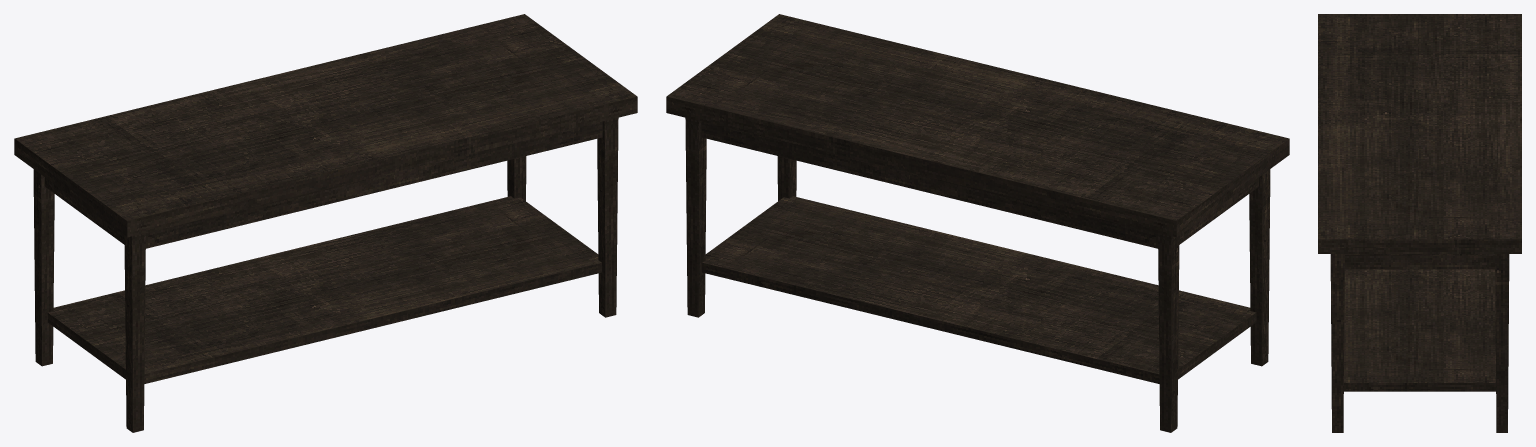
The model's file is coffee_table_1_2.glb.
3 renders of one model, left to right at view 1: azimuth 30°, elevation 25°; view 2: azimuth 150°, elevation 25°; view 3: azimuth 270°, elevation 25°, orthographic. The views are drawn at different scales.
Parts seen in each view (by area): view 1: coffee_table_1_2; view 2: coffee_table_1_2; view 3: coffee_table_1_2.
Boxes of the visible parts, x1,y1,x2,y2 form: coffee_table_1_2: [14, 14, 637, 432]; coffee_table_1_2: [666, 14, 1289, 432]; coffee_table_1_2: [1318, 14, 1521, 432].
Bounding box in the file's own units: 1.62 × 0.67 × 0.62.
Materials: 1 (1 with a texture image).
